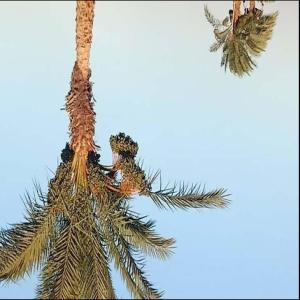palm tree: (0, 1, 233, 298), (203, 0, 279, 77)
